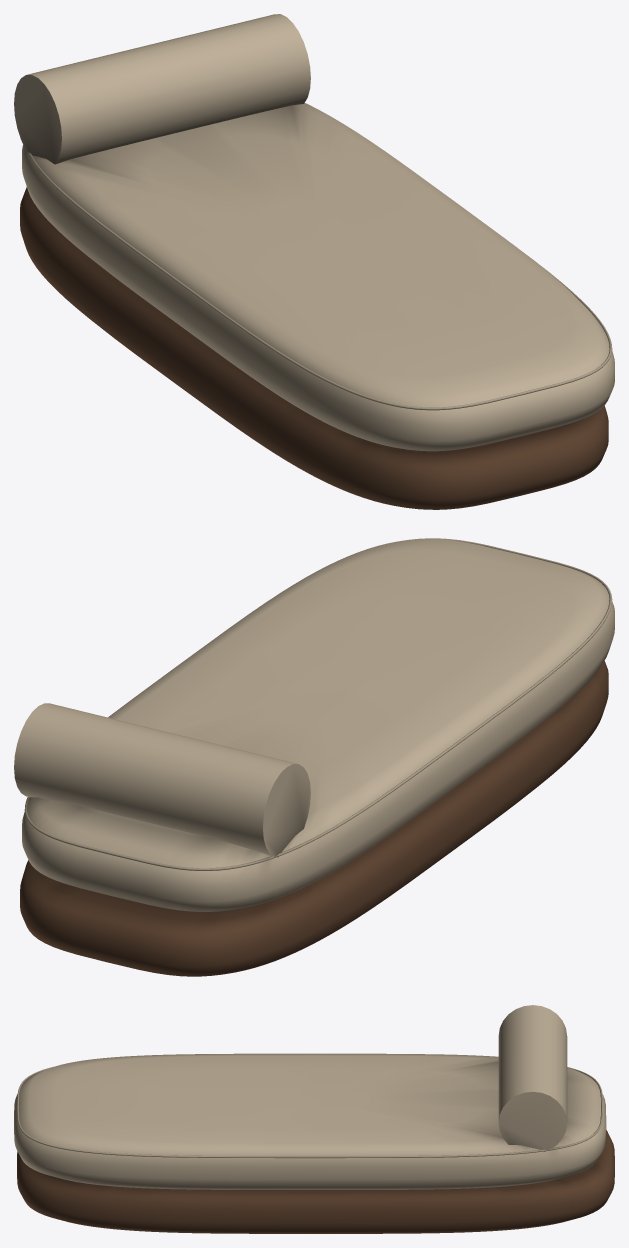
The model's file is bolster-bed.glb.
3 renders of one model, top to bottom at view 1: azimuth 30°, elevation 25°; view 2: azimuth 150°, elevation 25°; view 3: azimuth 270°, elevation 25°, orthographic. The views are drawn at different scales.
Parts seen in each view (by area): view 1: bolster-bed; view 2: bolster-bed; view 3: bolster-bed.
Boxes of the visible parts, x1,y1,x2,y2 form: bolster-bed: (14,14,614,509); bolster-bed: (14,538,614,976); bolster-bed: (14,1005,614,1233).
Size of the model in its own units: 0.8201 by 0.526 by 2.05.
